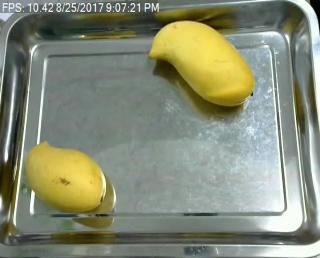Mango: (149, 20, 256, 110), (23, 137, 107, 214)
